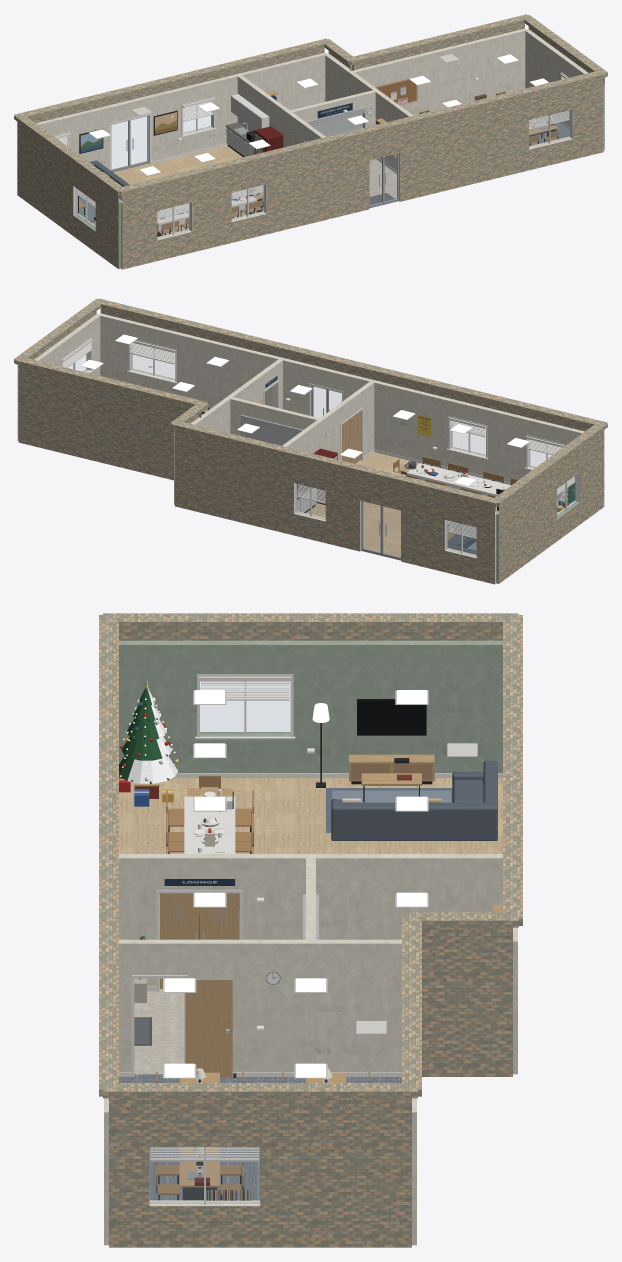
File: us_clubhouse.glb
3 views of the same model, one above another, from view 1: azimuth 30°, elevation 25°; view 2: azimuth 150°, elevation 25°; view 3: azimuth 270°, elevation 25° (orthographic). The views are drawn at different scales.
Parts seen in each view (by area): view 1: WALL_S_ext, WALL_W_ext, WALL_N_s_wall, WALL_N_l_wall, WALL_S_glass, WALL_N_l_ext, ucl_vc, WALL_N_o_wall, WALL_N_s_ext, WALL_E_wall, WALL_lf_wall, ucl_wood (+25 smaller); view 2: WALL_S_wall, WALL_N_l_ext, WALL_N_s_ext, WALL_W_ext, WALL_N_o_ext, WALL_S_ext, WALL_N_l_glass, WALL_lf_wall, ucl_wood, WALL_S_trim, WALL_S_glass, WALL_fs_wall (+19 smaller); view 3: WALL_E_ext, WALL_W_accent, WALL_fs_wall, WALL_lf_wall, WALL_E_o_ext, ucl_wood, WALL_W_ext, WALL_S_ext, ucl_fabric, ucl_vc, WALL_E_glass, CEIL_usch_panels (+21 smaller).
Boxes of the visible parts, x1,y1,x2,y2 form: WALL_S_ext: (117, 70, 607, 269); WALL_W_ext: (14, 114, 126, 268); WALL_N_s_wall: (353, 28, 526, 115); WALL_N_l_wall: (36, 74, 239, 169); WALL_S_glass: (158, 110, 570, 238); WALL_N_l_ext: (14, 60, 243, 132); ucl_vc: (78, 91, 558, 222); WALL_N_o_wall: (238, 52, 326, 110); WALL_N_s_ext: (346, 14, 530, 70); WALL_E_wall: (525, 29, 604, 150); WALL_lf_wall: (237, 75, 325, 147); ucl_wood: (91, 145, 263, 235); WALL_S_wall: (99, 313, 584, 482); WALL_N_l_ext: (262, 442, 500, 584); WALL_N_s_ext: (14, 357, 208, 480); WALL_W_ext: (491, 423, 607, 583); WALL_N_o_ext: (171, 422, 268, 528); WALL_S_ext: (96, 298, 607, 467); WALL_N_l_glass: (296, 484, 475, 556); WALL_lf_wall: (282, 380, 374, 460); ucl_wood: (306, 452, 558, 557); WALL_S_trim: (127, 340, 565, 484); WALL_S_glass: (132, 355, 551, 467); WALL_fs_wall: (201, 358, 283, 433); WALL_E_ext: (103, 1083, 417, 1247); WALL_W_accent: (119, 640, 502, 772); WALL_fs_wall: (119, 939, 401, 1071); WALL_lf_wall: (119, 854, 502, 986); WALL_E_o_ext: (406, 912, 518, 1076); ucl_wood: (119, 778, 502, 988); WALL_W_ext: (103, 613, 518, 732); WALL_S_ext: (99, 615, 118, 1096); ucl_fabric: (331, 760, 497, 840); ucl_vc: (134, 699, 452, 1200); WALL_E_glass: (150, 1147, 259, 1203); CEIL_usch_panels: (164, 690, 427, 1077).
Bounding box in the file's own units: 22.4 × 3.45 × 8.4.
22 materials, 12 textured.
